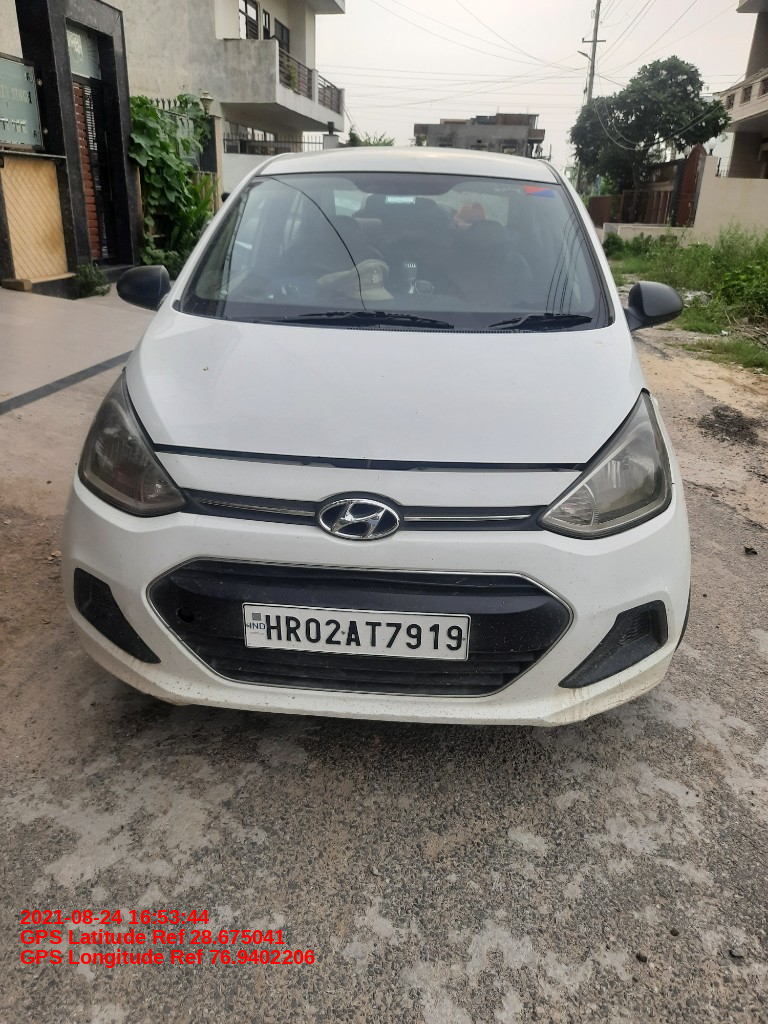Scratched: (598, 675, 667, 713), (589, 600, 606, 625), (658, 578, 671, 597), (199, 362, 214, 376)
